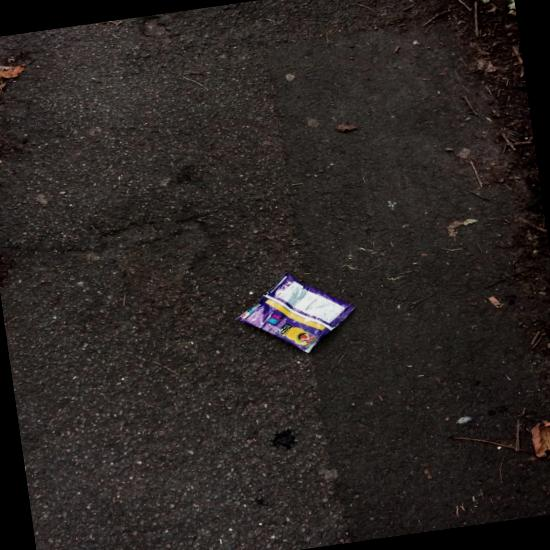Cigarette: (5, 34, 16, 40), (261, 44, 272, 48)
Clear plastic bottle: (49, 124, 134, 146)
Unlabeled litter: (22, 125, 39, 132)
